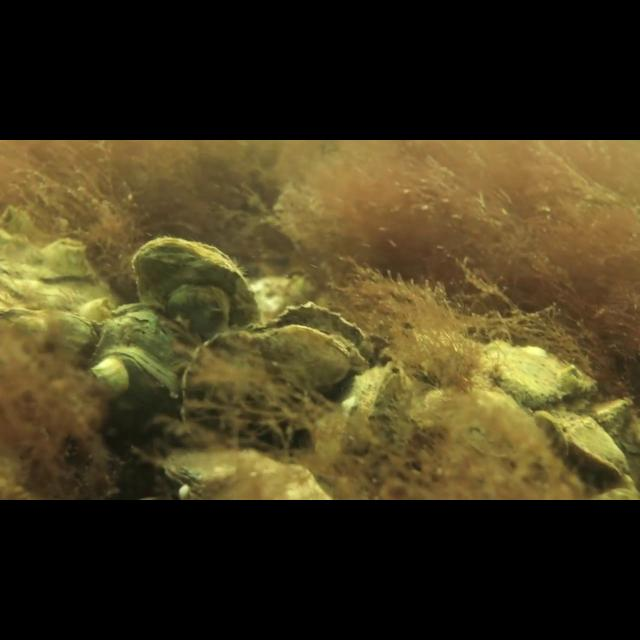Oyster-Closed: (176, 323, 355, 426), (124, 227, 270, 333), (162, 440, 337, 499), (480, 337, 601, 407), (270, 297, 373, 373), (89, 345, 184, 412), (557, 407, 635, 485), (0, 305, 102, 352)
